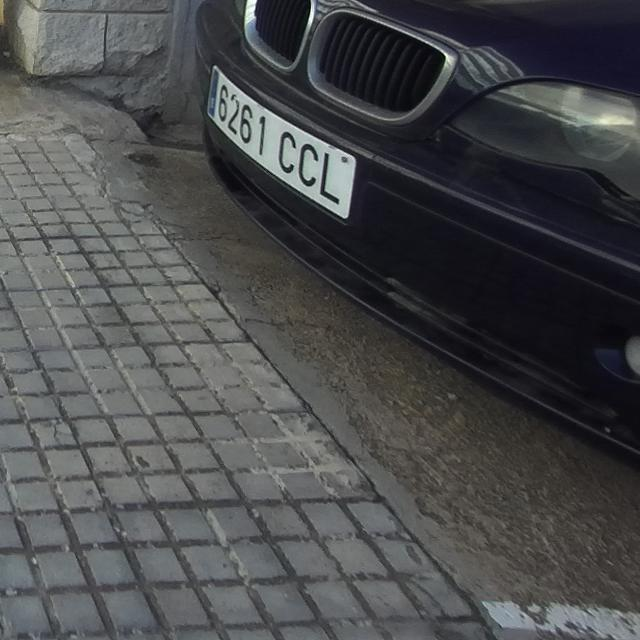calcada_quebrada: (398, 573, 479, 621), (31, 413, 78, 450)
